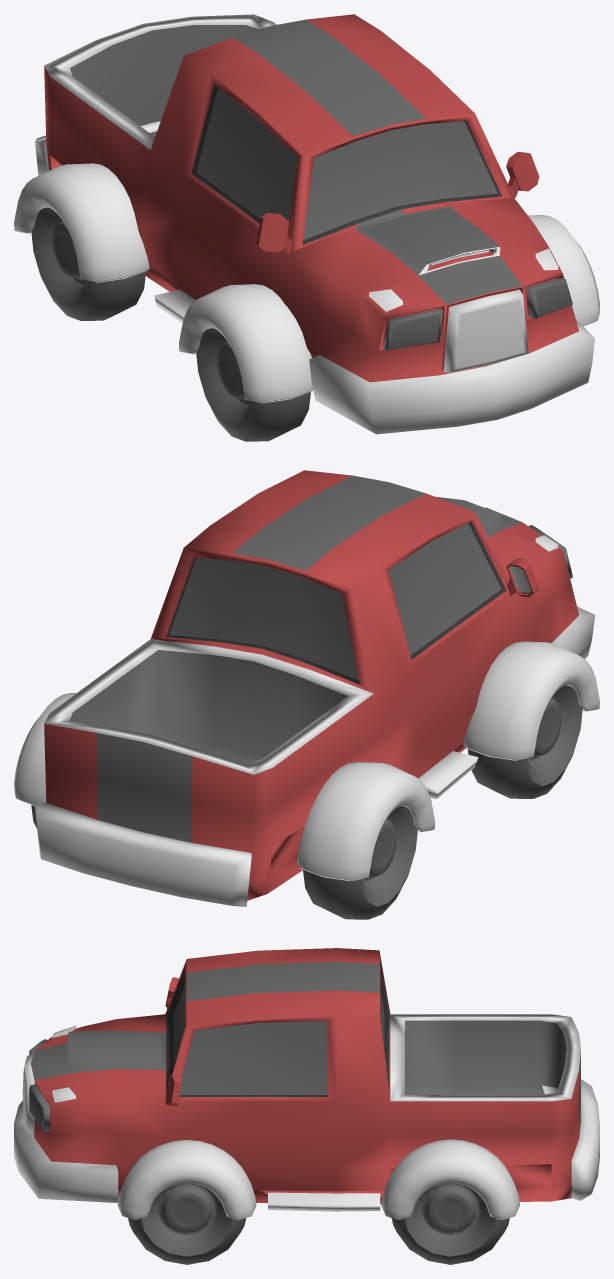
File: RedCar_venz.fbx
3 views of the same model, one above another, from view 1: azimuth 30°, elevation 25°; view 2: azimuth 150°, elevation 25°; view 3: azimuth 270°, elevation 25° (orthographic). The views are drawn at different scales.
Visible parts, largest first — view 1: Redcar_venz; view 2: Redcar_venz; view 3: Redcar_venz.
Part boxes in pixels (x1=…): Redcar_venz: x1=14, y1=14, x2=599, y2=441; Redcar_venz: x1=14, y1=470, x2=599, y2=919; Redcar_venz: x1=14, y1=948, x2=599, y2=1264.
Bounding box in the file's own units: 194 × 152 × 346.
